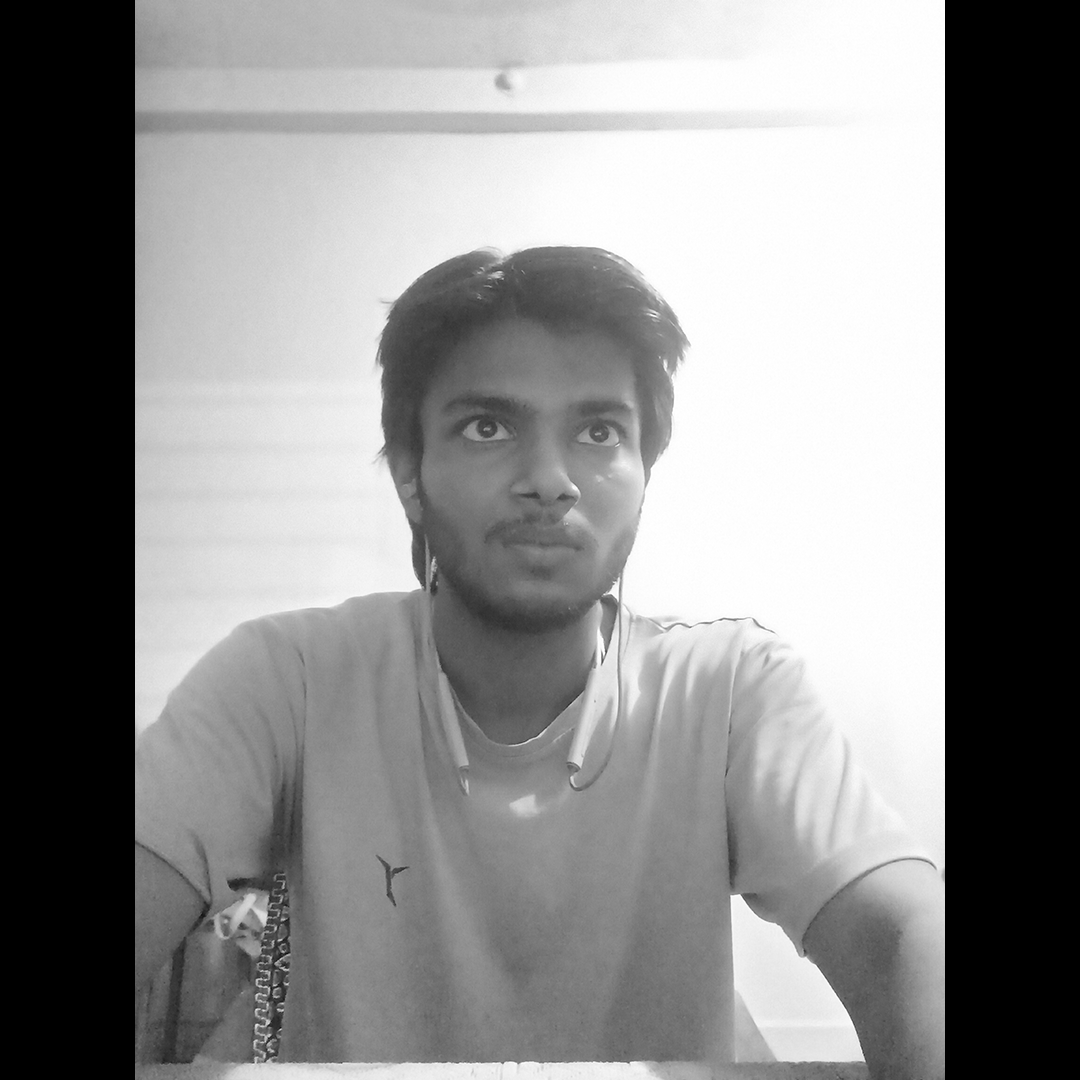Focused: (249, 103, 822, 920)
